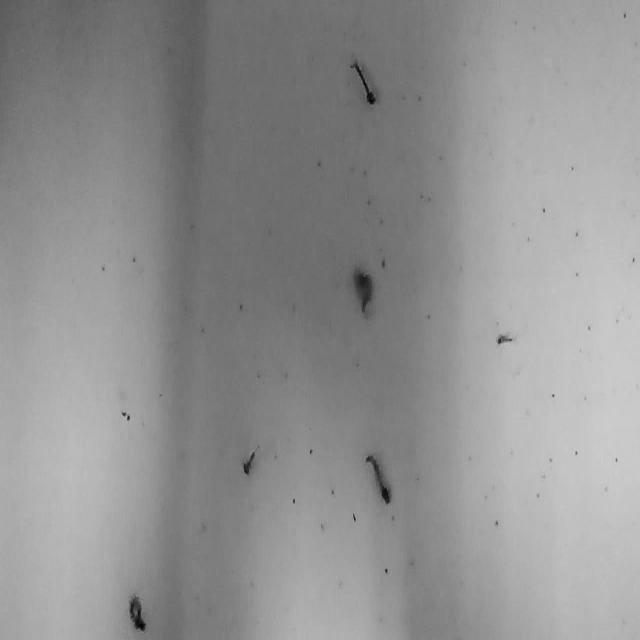larvas: (366, 453, 390, 505), (349, 58, 376, 104), (353, 266, 373, 316), (128, 594, 146, 632), (242, 444, 260, 474), (497, 330, 518, 345)
